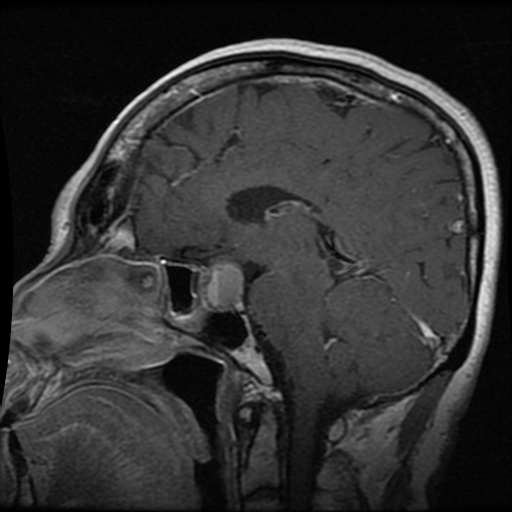pituitary: (210, 265, 243, 306)
